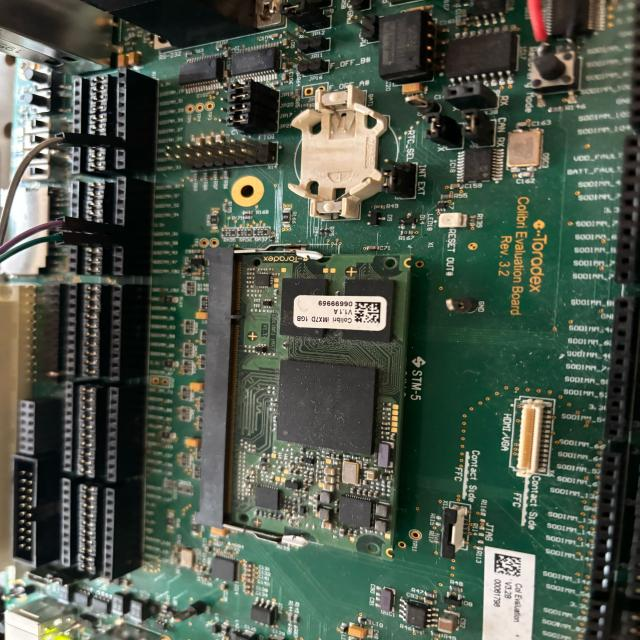som: (199, 250, 411, 558)
